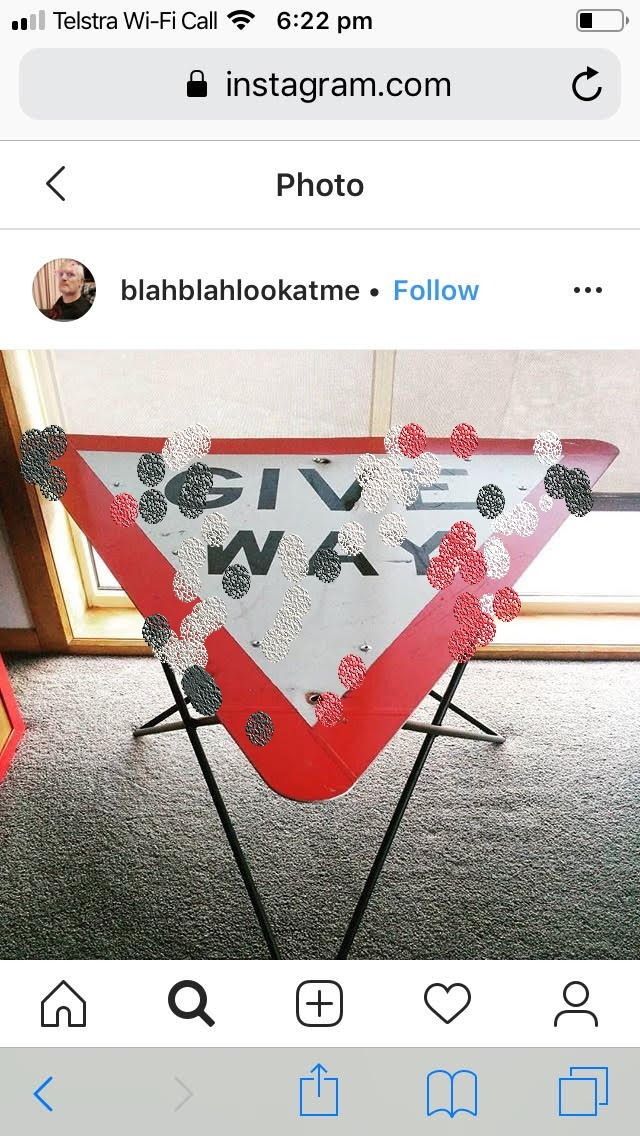giveway: (23, 424, 607, 798), (38, 432, 599, 621), (307, 430, 583, 768), (47, 441, 337, 757)
